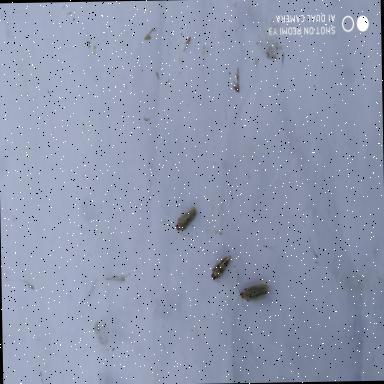pbw: (236, 266, 272, 312), (170, 206, 198, 240), (208, 252, 233, 286)
